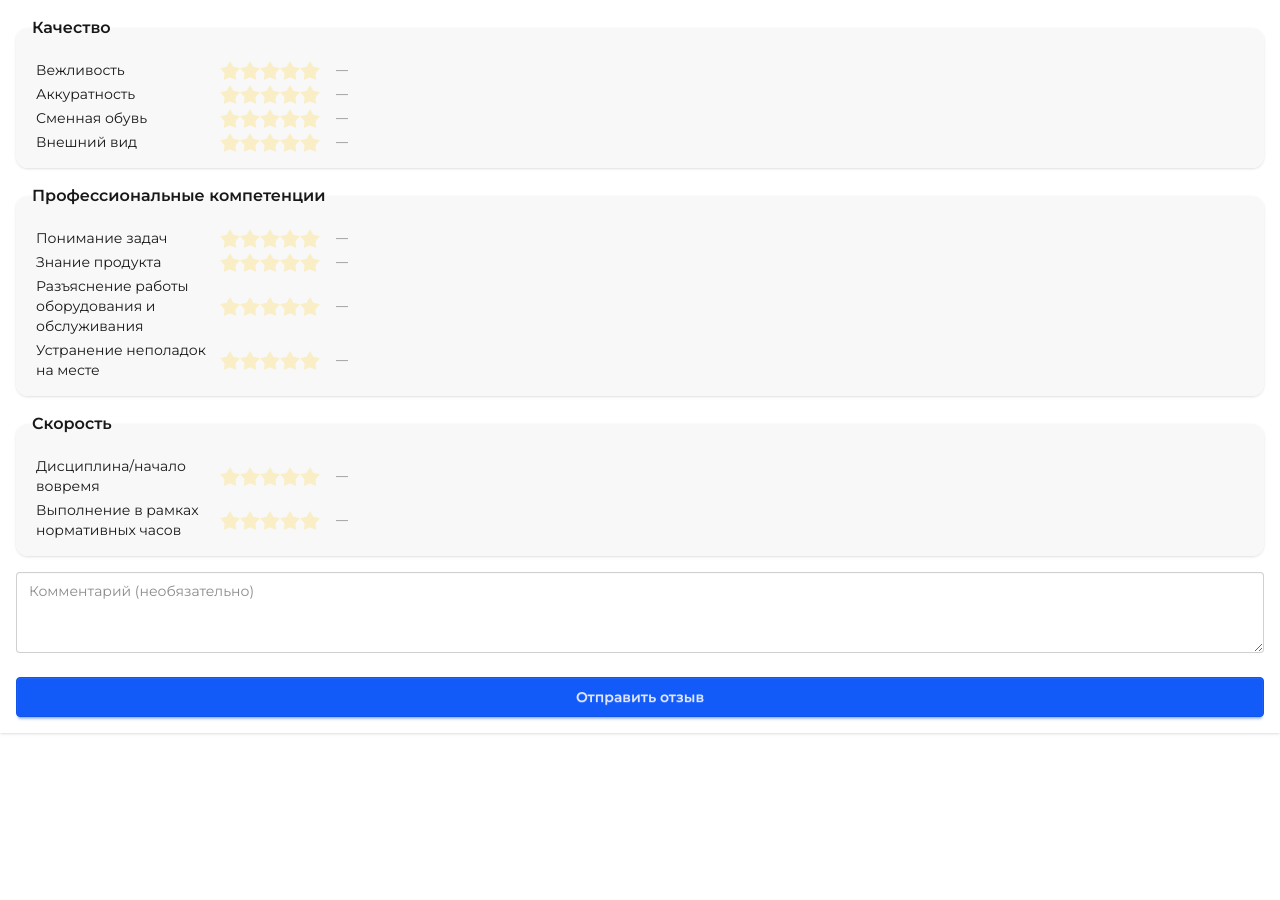
Test case: FeedbackForm › показывает предупреждение при попытке отправить без оценок
Click the button "Отправить отзыв" at [640, 697], box [16,677,1264,717]
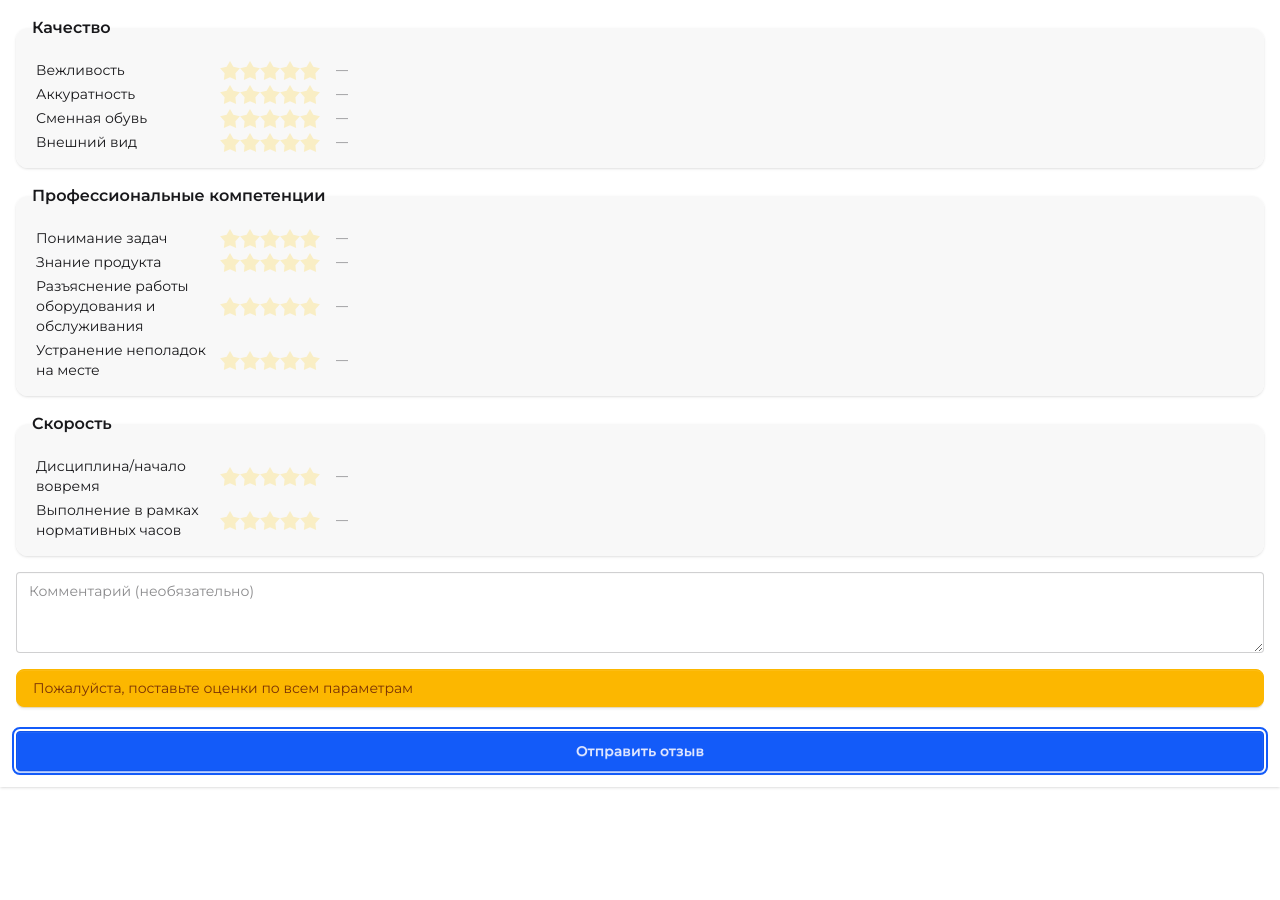
Check: the text "Пожалуйста, поставьте оценки по всем параметрам" is shown, box [16,669,1264,707]
